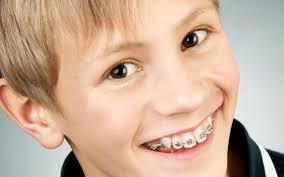Braces: (144, 125, 215, 151)
